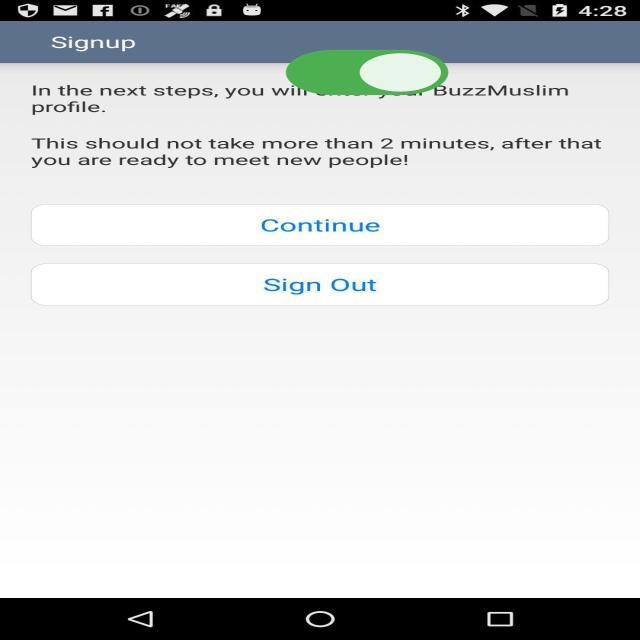social proof: (278, 32, 456, 116)
